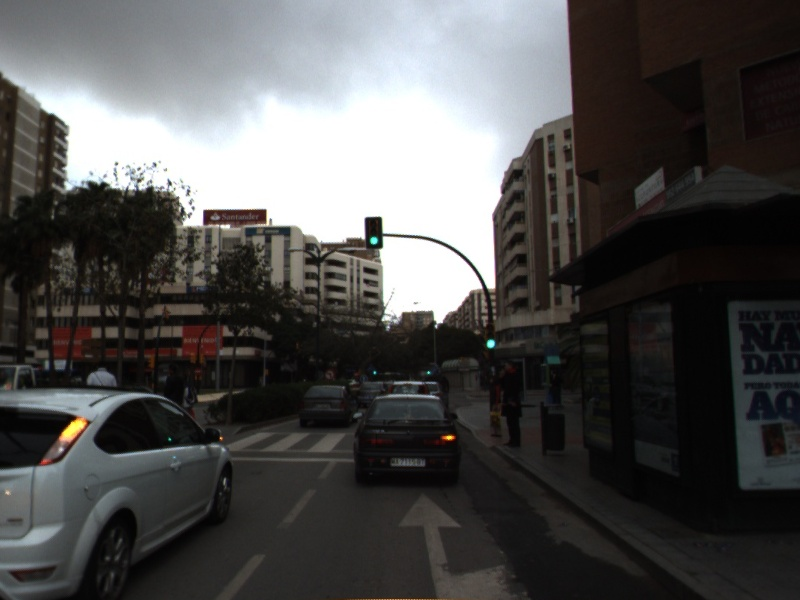STRAIGHT_RIGHT: (393, 488, 535, 600)
